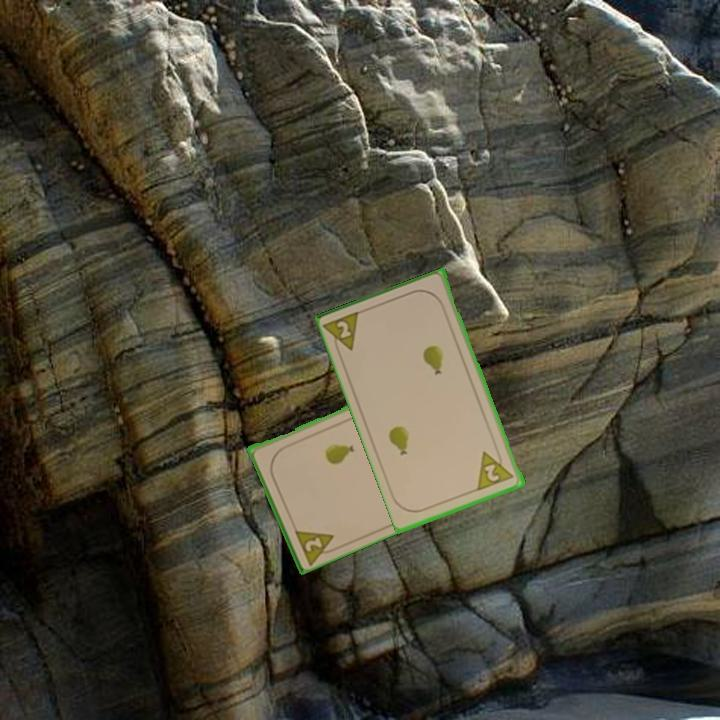2p: (322, 307, 365, 359), (291, 524, 342, 566), (474, 444, 517, 493)
